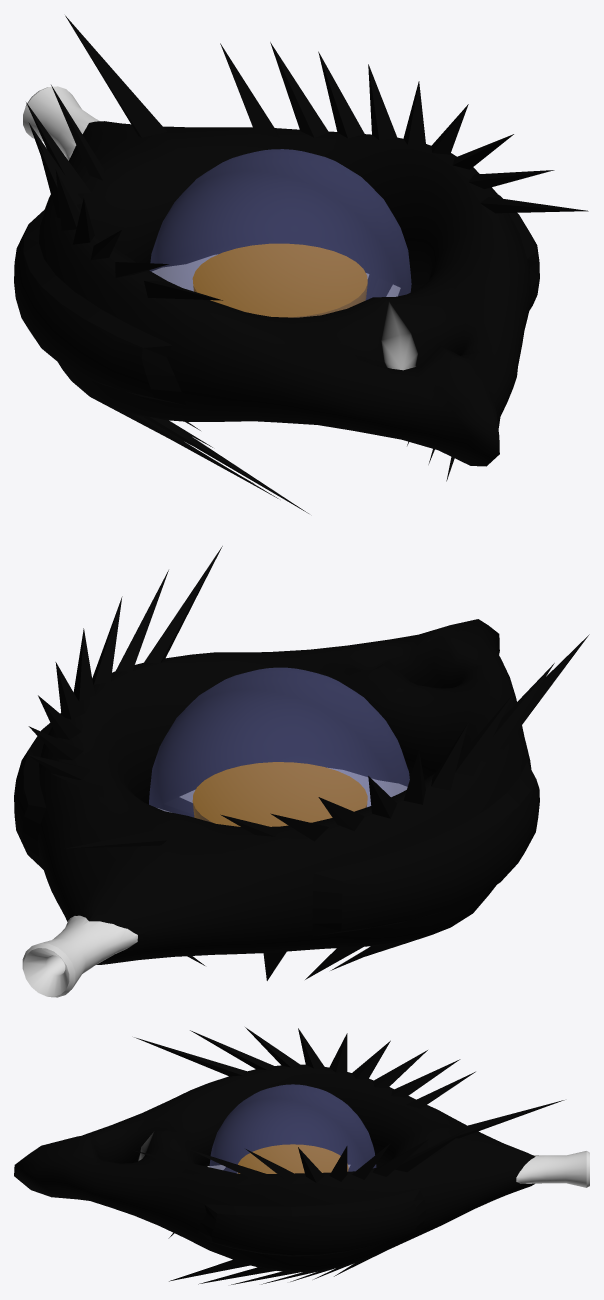
File: UFO 2.fbx
The picture shows the model from 3 angles, top to bottom: view 1: azimuth 30°, elevation 25°; view 2: azimuth 150°, elevation 25°; view 3: azimuth 270°, elevation 25°; orthographic projection. The views are drawn at different scales.
Visible parts, largest first — view 1: Body, Cabin; view 2: Body, Cabin; view 3: Body, Cabin.
Part boxes in pixels (x1,y1,x2,y2): Body: (14,15,588,513); Cabin: (149,149,411,317); Body: (14,546,589,997); Cabin: (149,667,409,826); Body: (14,1027,589,1284); Cabin: (209,1084,376,1173).
Size of the model in its own units: 0.9451 by 0.5464 by 1.63.
